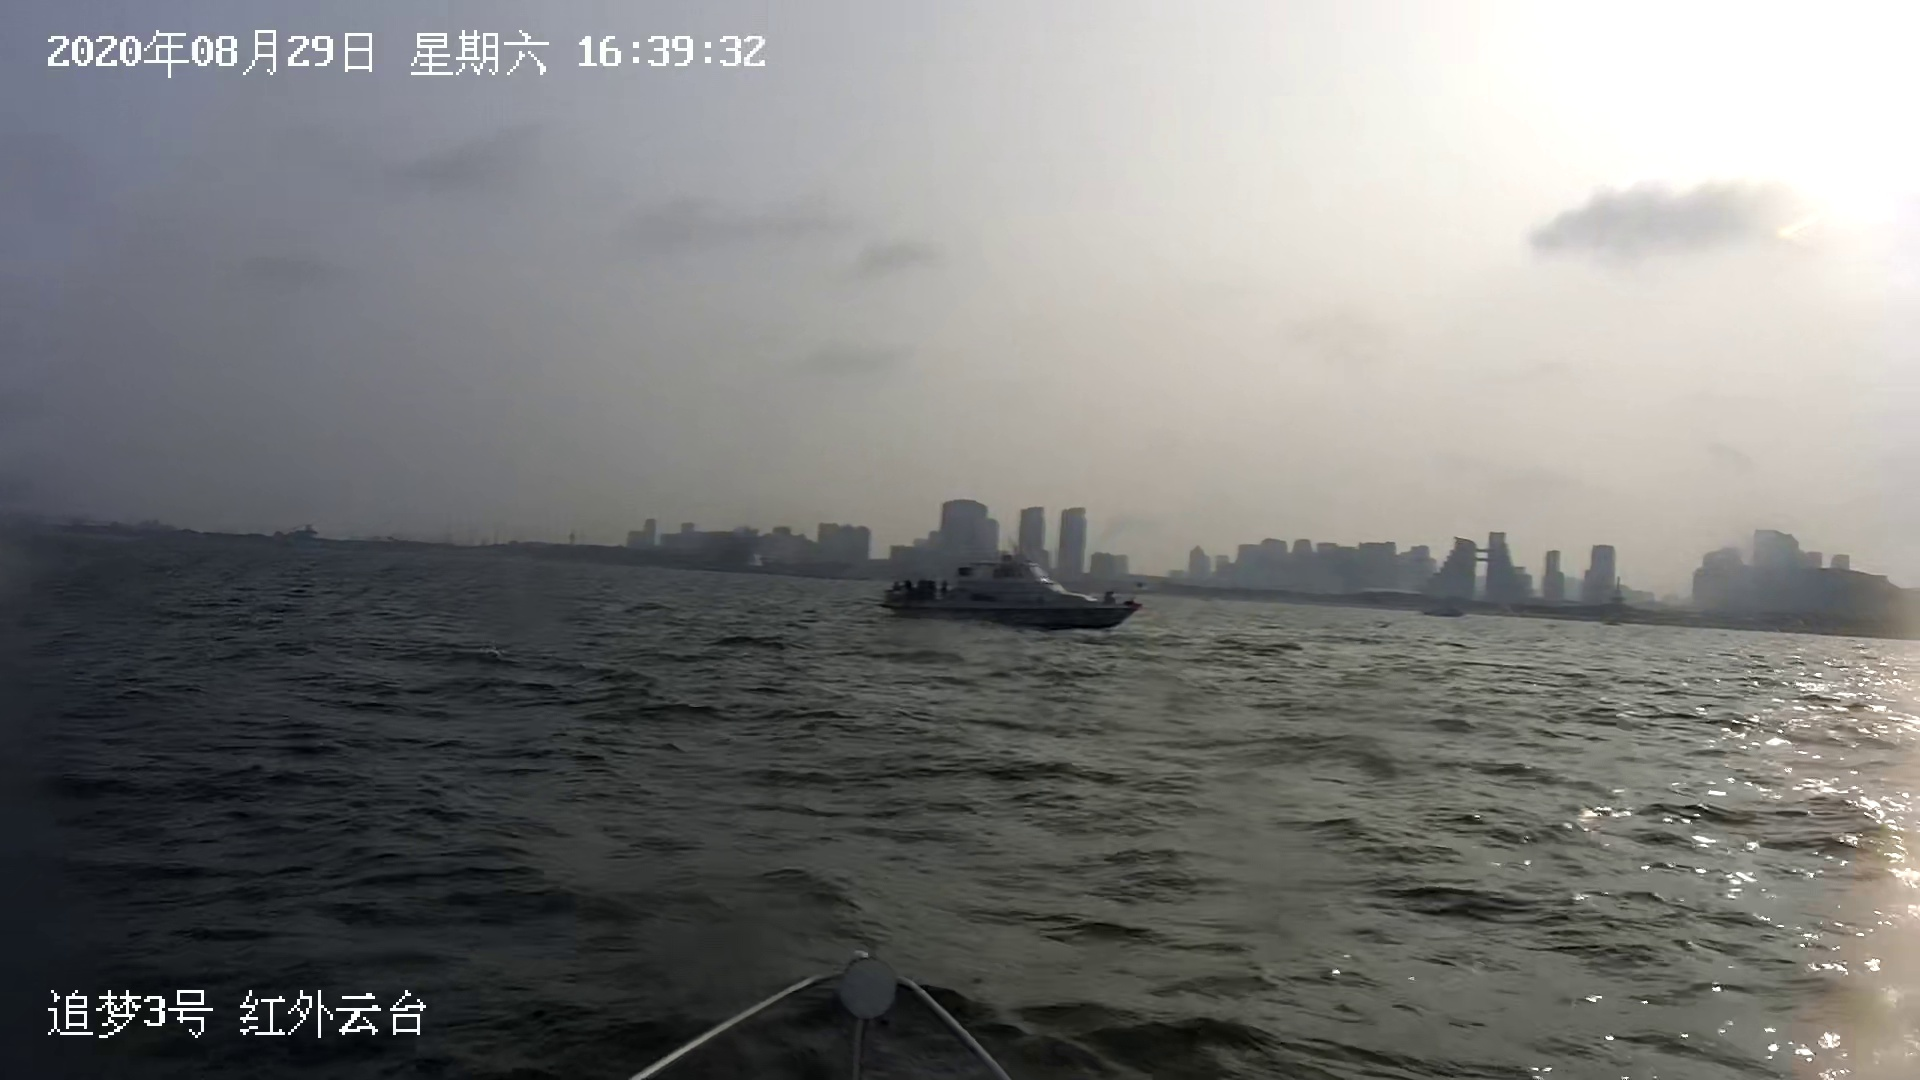barrier: (884, 542, 1141, 625)
coast: (7, 512, 1919, 638)
this: (624, 943, 1026, 1079)
